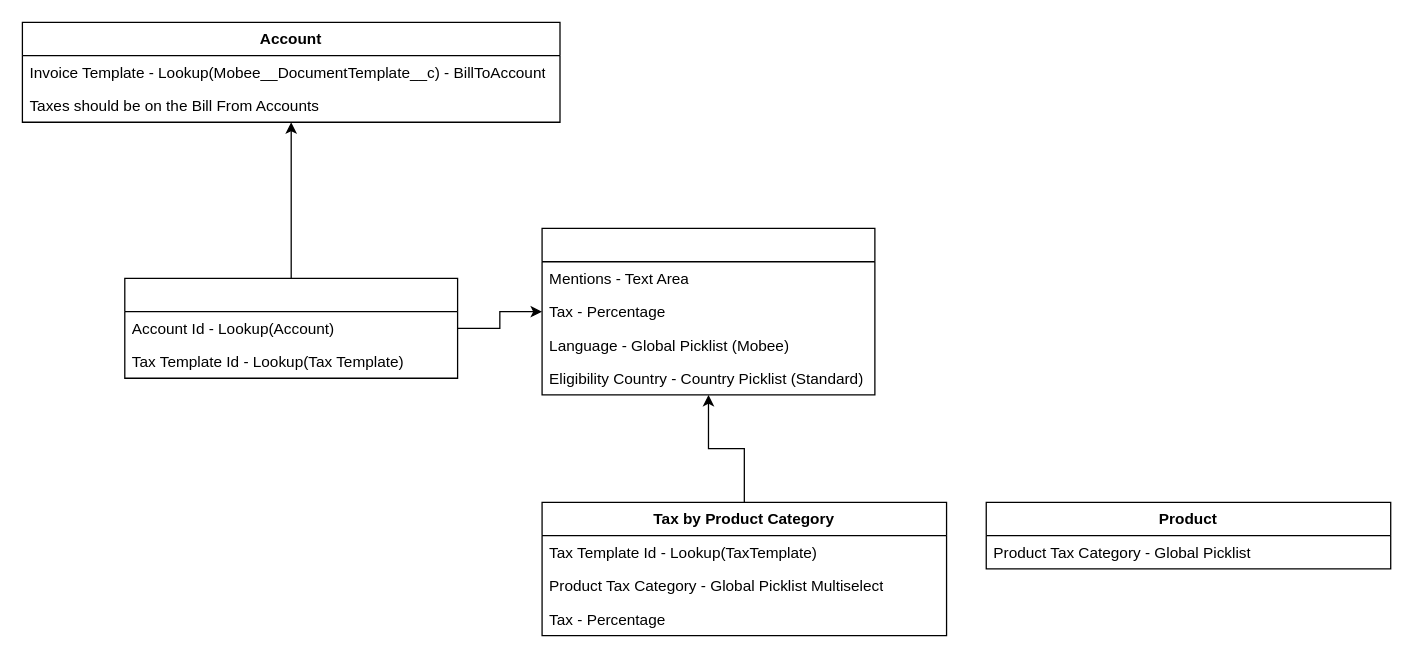
Some shapes in this 1413 by 662 pixel diagram are drawn without their labels. The box of each missing label's shape, as (x1, y1, x2, y2) in pixels:
Applicable Taxes: (124, 277, 458, 378)
Tax Template: (541, 227, 875, 395)
